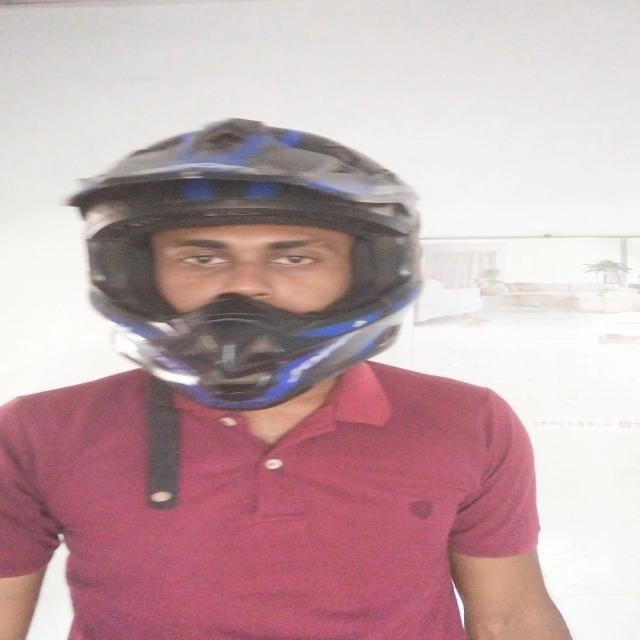Helmet_Wearer: (64, 110, 432, 448)
Person: (0, 127, 573, 640)
